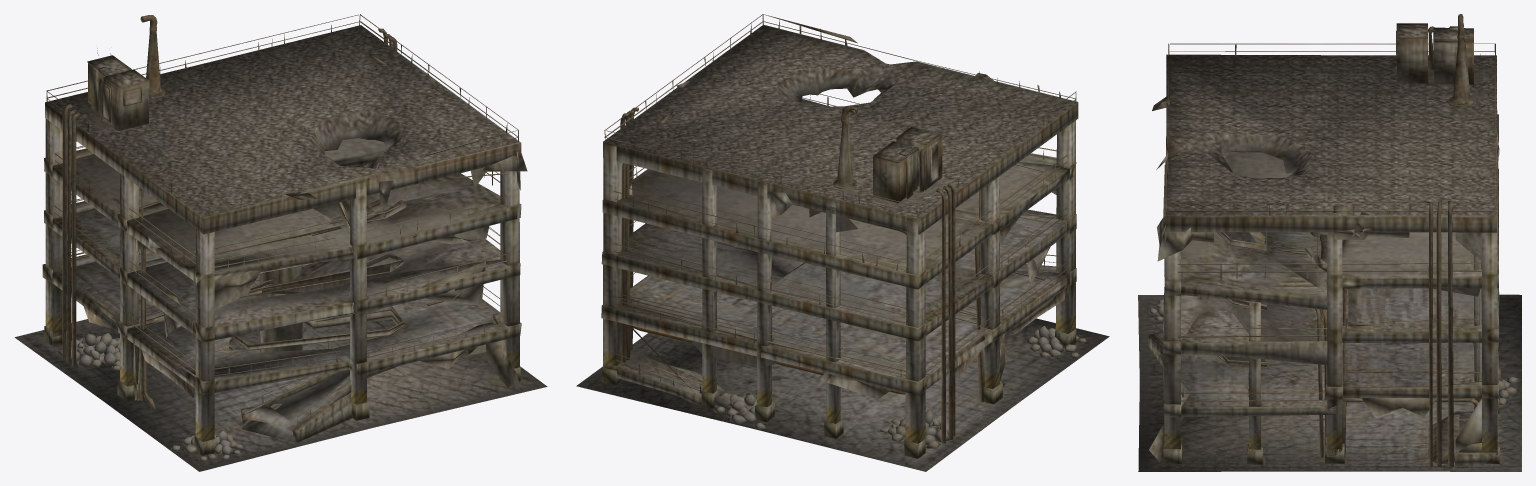
The model's file is reactor-city-garage-skeleton.glb.
The picture shows the model from 3 angles, left to right: view 1: azimuth 30°, elevation 25°; view 2: azimuth 150°, elevation 25°; view 3: azimuth 270°, elevation 25°; orthographic projection. The views are drawn at different scales.
Parts seen in each view (by area): view 1: reactor-city-garage-skeleton; view 2: reactor-city-garage-skeleton; view 3: reactor-city-garage-skeleton.
Boxes of the visible parts, x1,y1,x2,y2 form: reactor-city-garage-skeleton: (14, 14, 547, 471); reactor-city-garage-skeleton: (576, 14, 1109, 471); reactor-city-garage-skeleton: (1138, 14, 1521, 471).
Bounding box in the file's own units: 18.35 × 16 × 16.77.
Materials: 1 (1 with a texture image).
